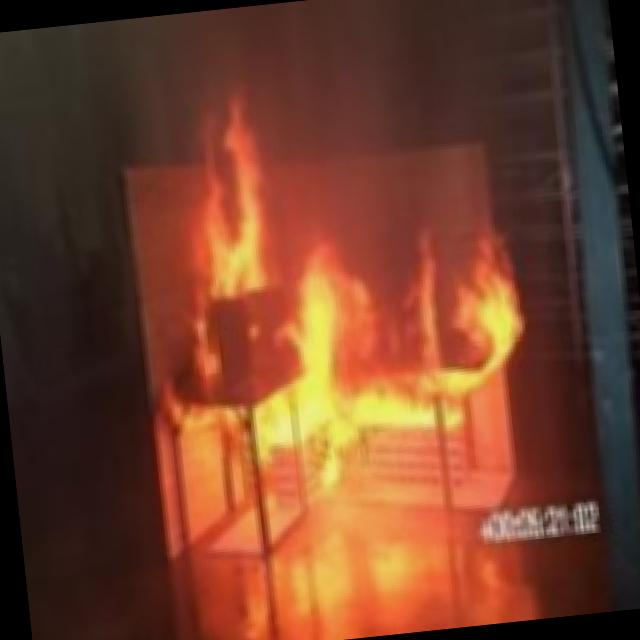fire: (100, 64, 546, 524)
